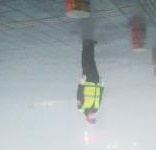person: (75, 39, 106, 127)
